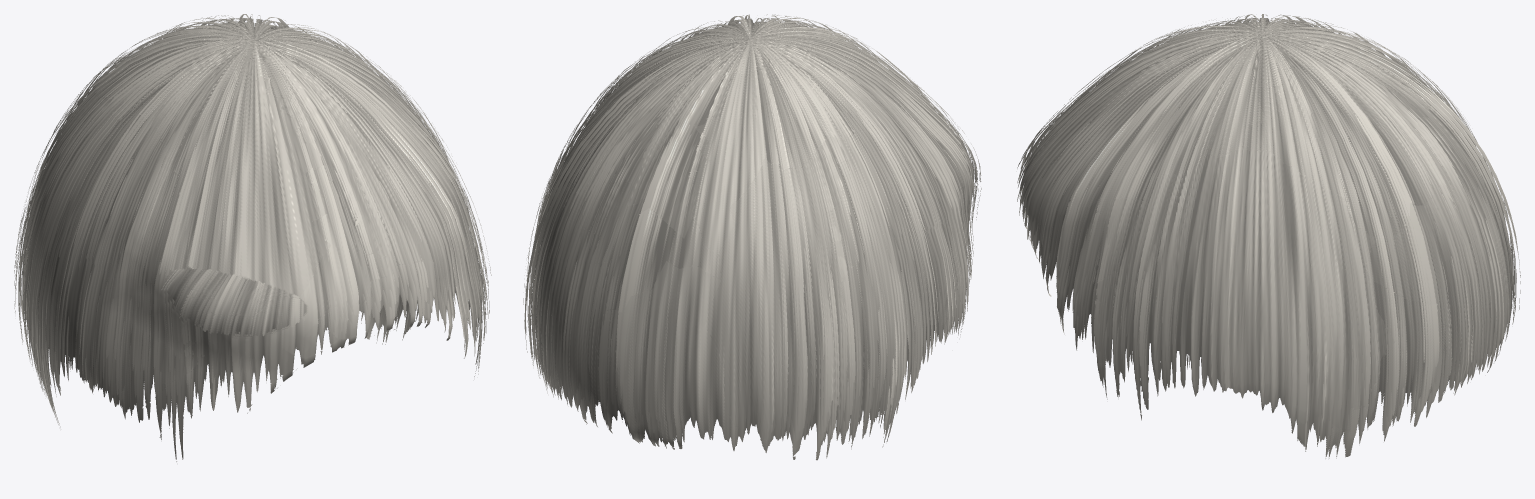
Rendered from toc_ngan_edits.glb.
3 views of the same model, side by side, from view 1: azimuth 30°, elevation 25°; view 2: azimuth 150°, elevation 25°; view 3: azimuth 270°, elevation 25° (orthographic). The views are drawn at different scales.
Parts seen in each view (by area): view 1: toc_ngan_edits; view 2: toc_ngan_edits; view 3: toc_ngan_edits.
Part boxes in pixels (x1,y1,x2,y2): toc_ngan_edits: (14,14,491,461); toc_ngan_edits: (523,14,981,460); toc_ngan_edits: (1017,14,1520,458).
Size of the model in its own units: 0.1858 by 0.1848 by 0.2196.
Materials: 1 (1 with a texture image).
